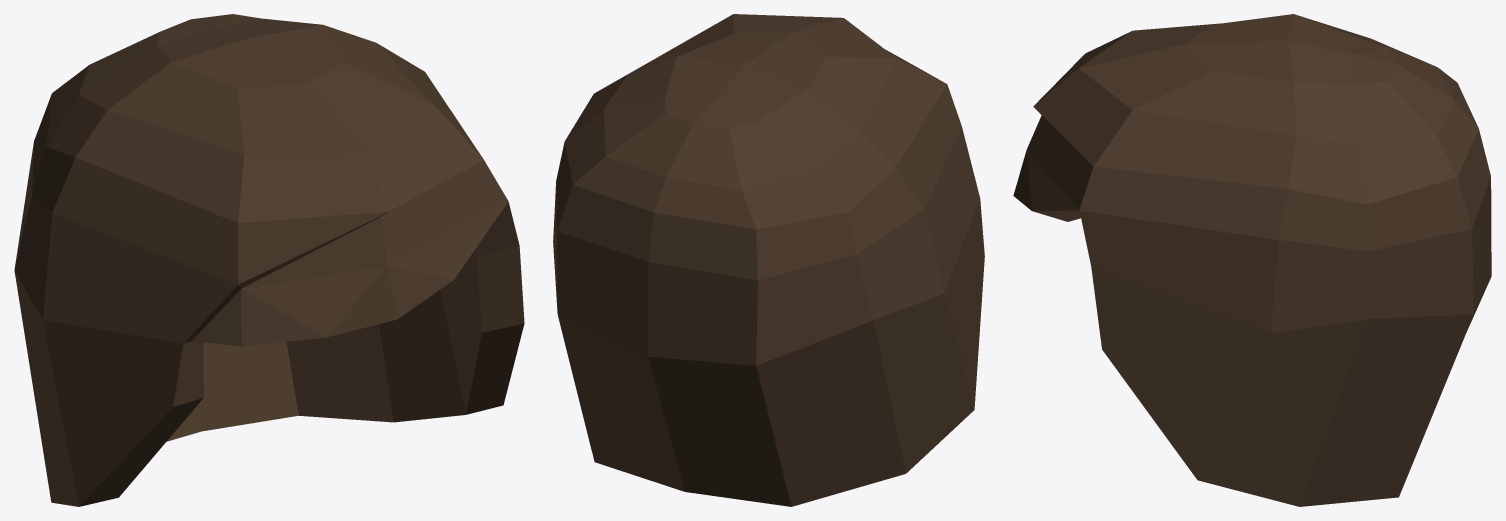
Rendered from crowd_eclair_female_hairstyle_3.3622f7cc.glb.
The picture shows the model from 3 angles, left to right: view 1: azimuth 30°, elevation 25°; view 2: azimuth 150°, elevation 25°; view 3: azimuth 270°, elevation 25°; orthographic projection. The views are drawn at different scales.
Parts seen in each view (by area): view 1: Female_Hairstyle_3_Cylinder.005; view 2: Female_Hairstyle_3_Cylinder.005; view 3: Female_Hairstyle_3_Cylinder.005.
Boxes of the visible parts, x1,y1,x2,y2 form: Female_Hairstyle_3_Cylinder.005: (14,14,524,506); Female_Hairstyle_3_Cylinder.005: (553,14,984,506); Female_Hairstyle_3_Cylinder.005: (1013,14,1491,506).
Size of the model in its own units: 0.5232 by 0.5234 by 0.5585.
